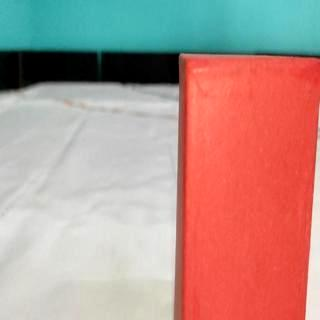redbox: (181, 58, 308, 320)
